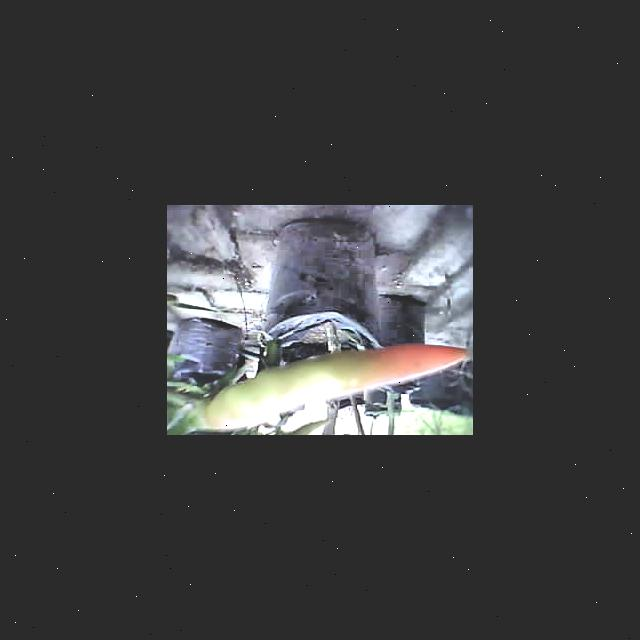Cabai: (206, 343, 473, 416)
